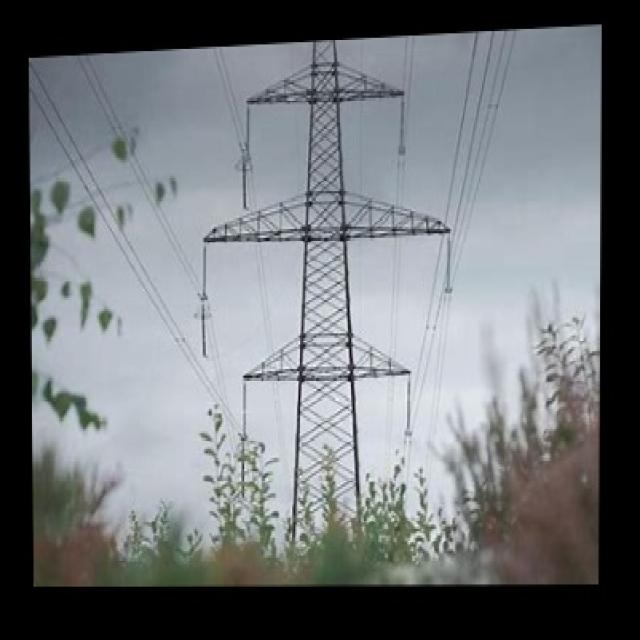utility poles: (194, 342, 471, 564)
